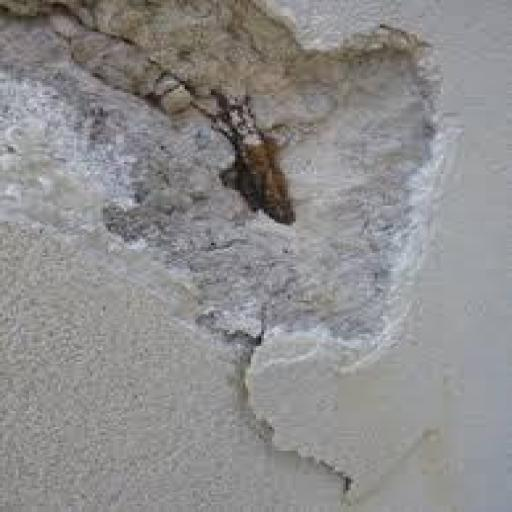spalling: (1, 2, 450, 338)
